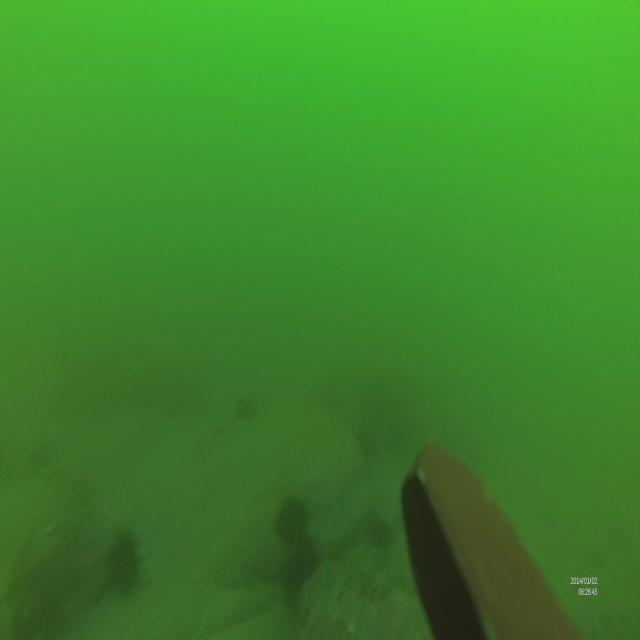echinus: (101, 526, 140, 586), (275, 491, 308, 542)
